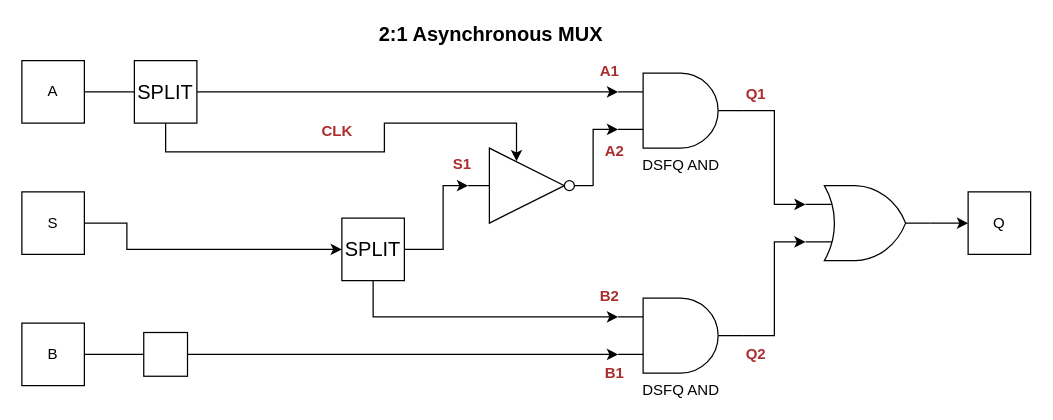
The diagram is 1053 pixels wide and 420 high, and some of its shapes have lost their labels. The centre of each missing label's shape, as x and y in pixels:
"DSFQ OR" goes at [867,222].
"JTL" goes at [165,353].
"RSFQ NOT" goes at [530,185].
